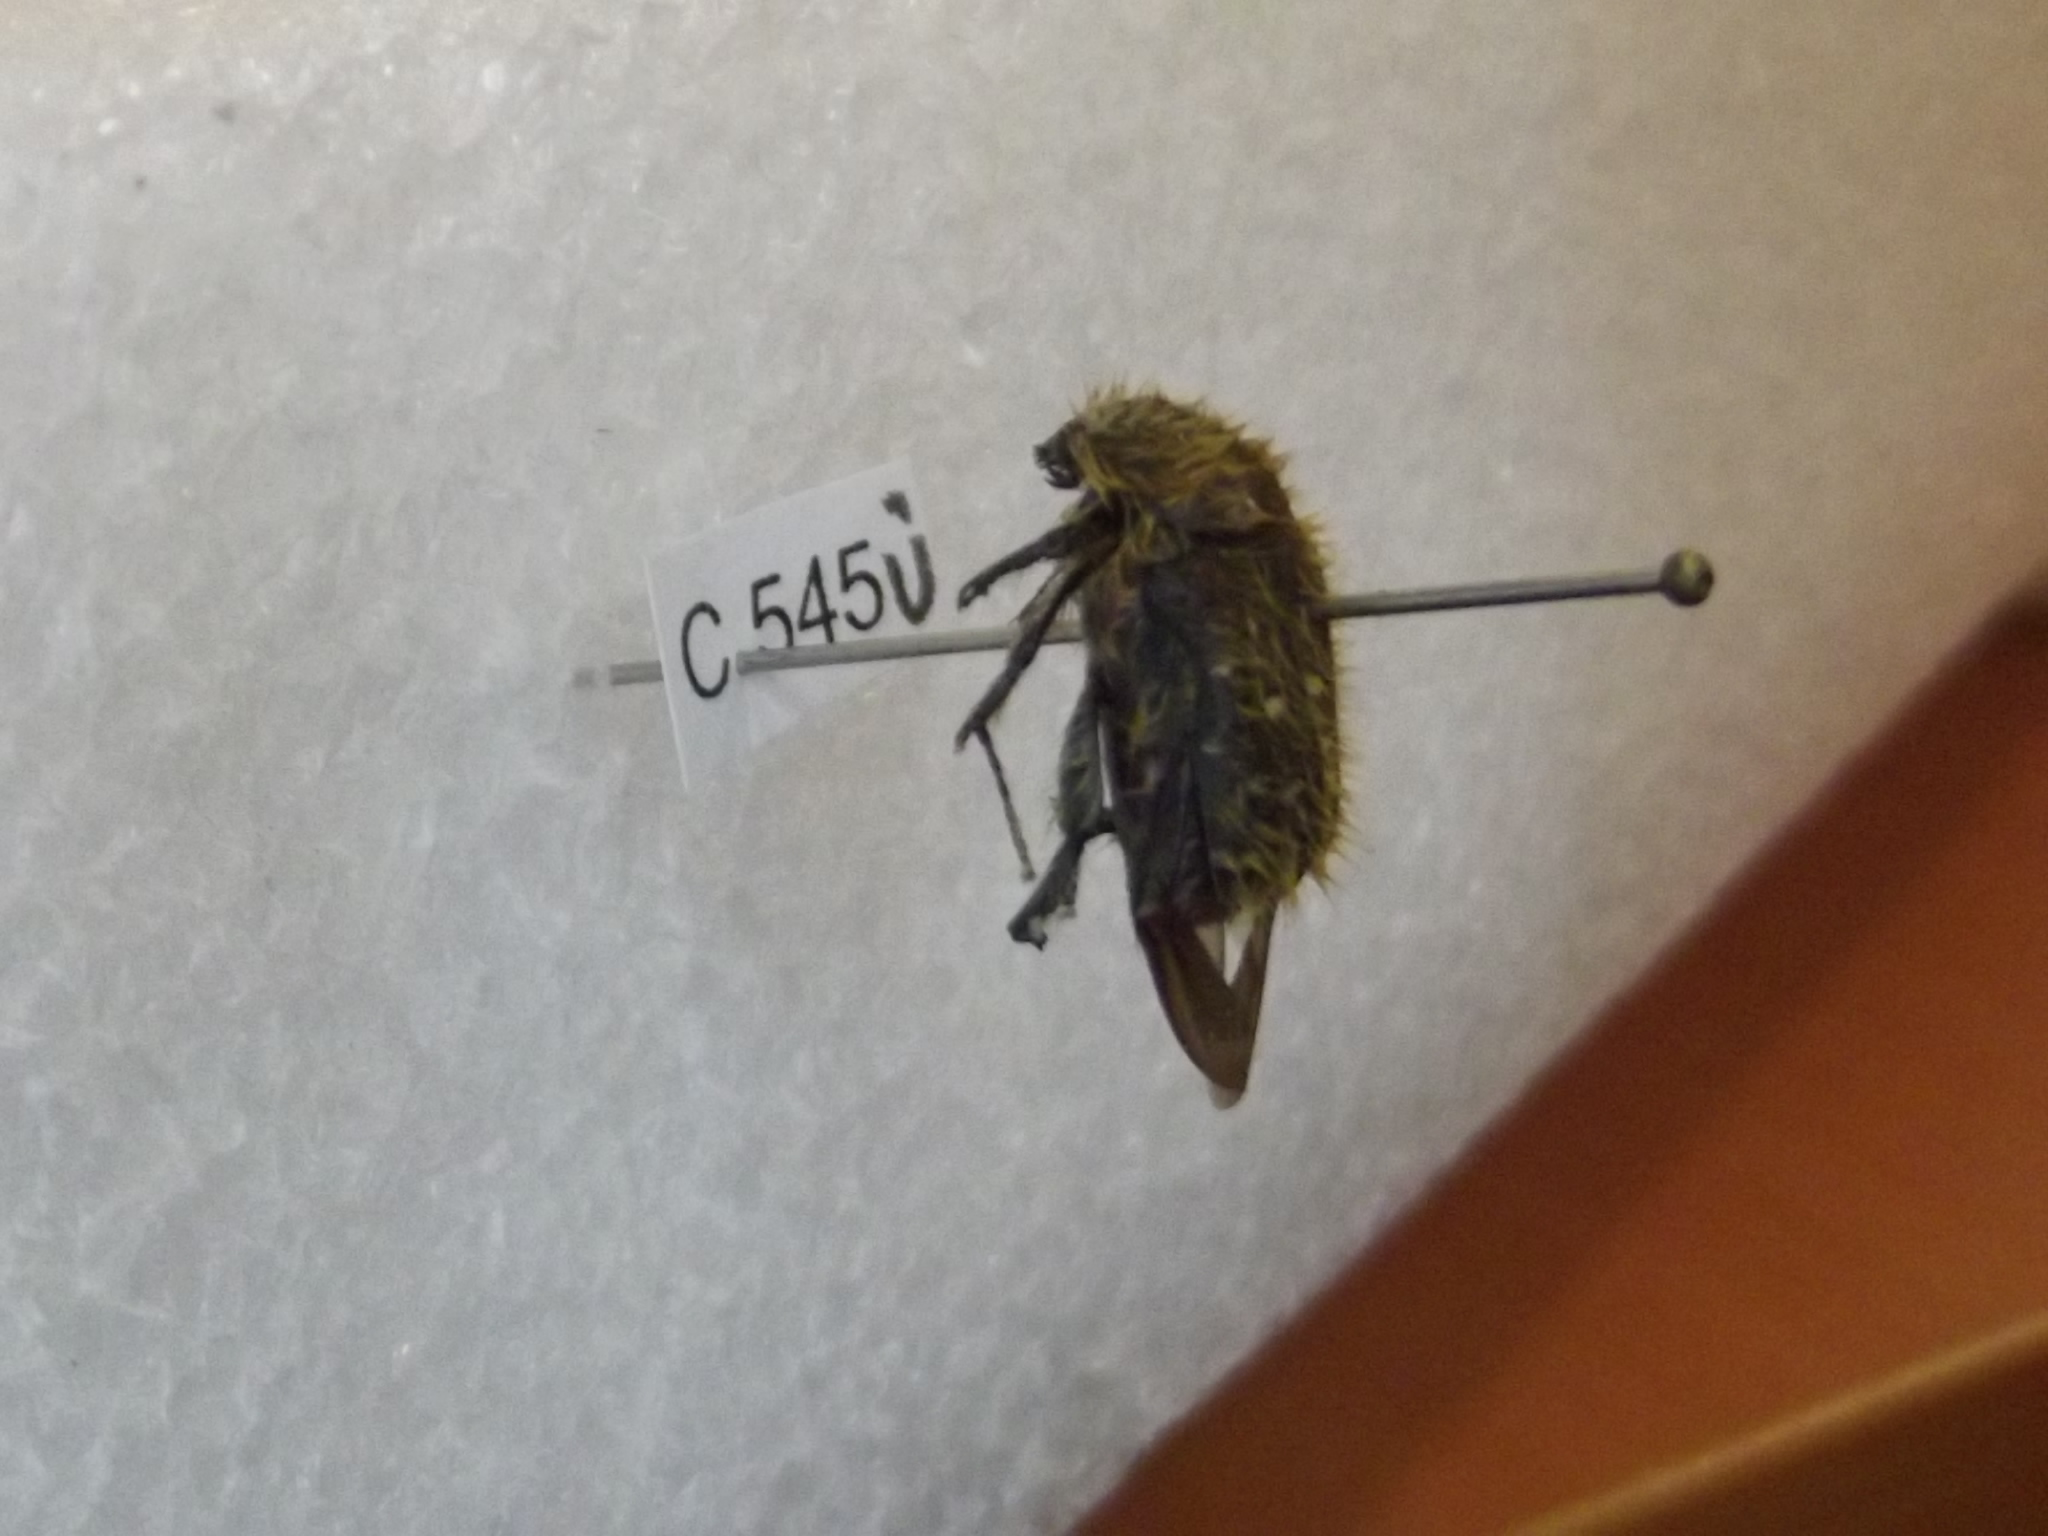Tropinota_hirta: (929, 339, 1395, 1133)
